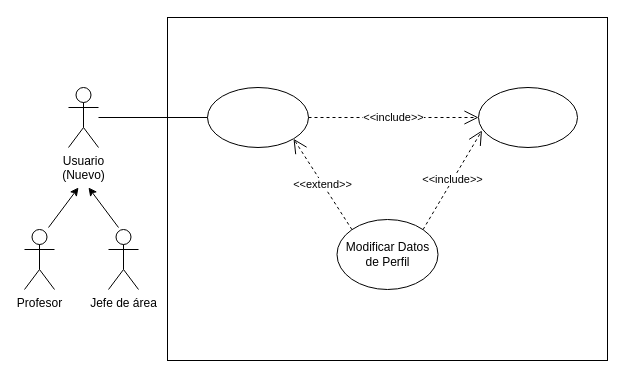
The diagram is 625 pixels wide and 378 high, and some of its shapes have lost their labels. Here are the shapes that lost their labels. From the top down, the box of each, then its label:
(206, 86, 308, 148): Ingresar Datos
(478, 86, 578, 148): Validar Datos
